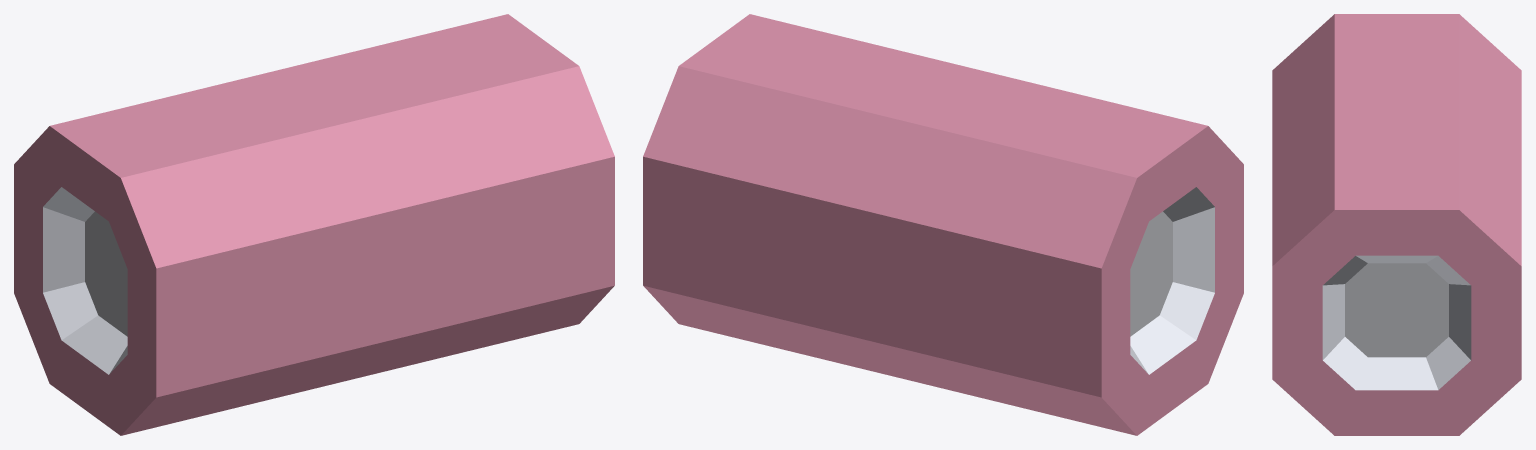
File: KSI_container.glb
The picture shows the model from 3 angles, left to right: view 1: azimuth 30°, elevation 25°; view 2: azimuth 150°, elevation 25°; view 3: azimuth 270°, elevation 25°; orthographic projection. The views are drawn at different scales.
Visible parts, largest first — view 1: tmpParent; view 2: tmpParent; view 3: tmpParent.
Part boxes in pixels (x1,y1,x2,y2): tmpParent: [14, 14, 614, 435]; tmpParent: [643, 14, 1243, 435]; tmpParent: [1272, 14, 1521, 435].
Bounding box in the file's own units: 0.465 × 0.25 × 0.25.
